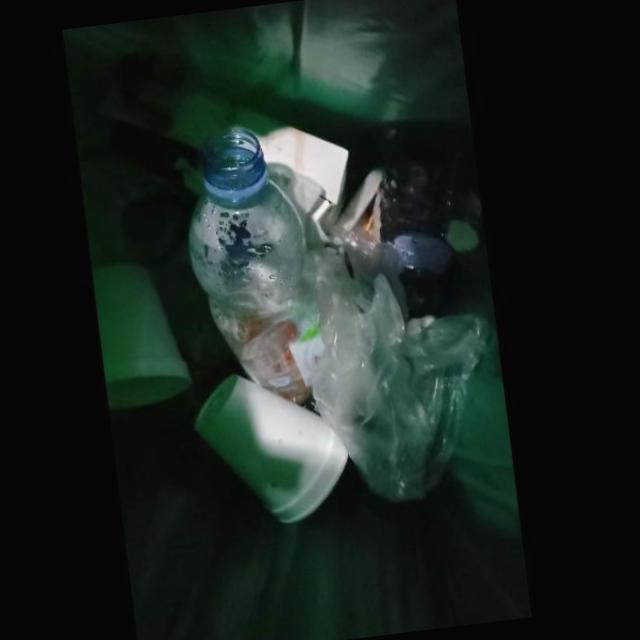chai_nhua_pet: (188, 123, 320, 405)
tui_ni_long: (290, 295, 488, 500)
xop: (193, 370, 349, 522), (92, 262, 191, 409)
